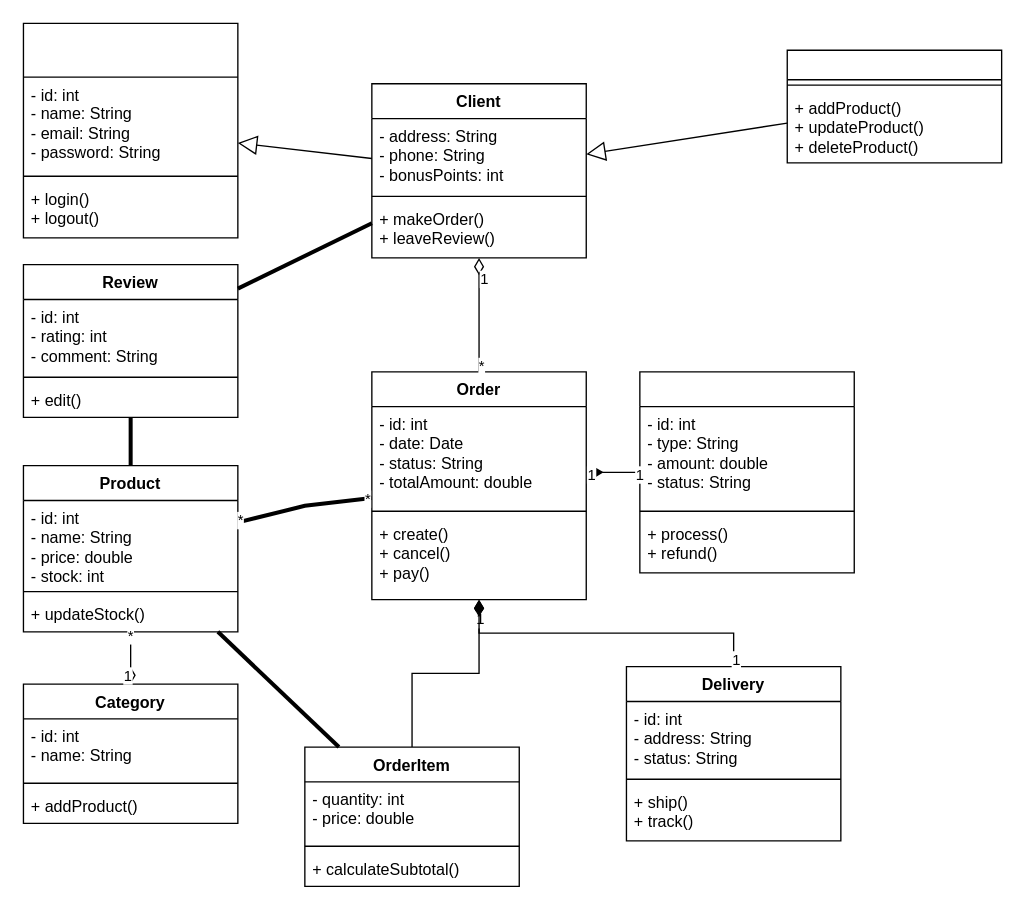
The diagram is 1025 pixels wide and 914 high, and some of its shapes have lost their labels. Each missing label, with the box of its shape:
<<abstract>> User: (22, 22, 238, 238)
Administrator: (786, 49, 1002, 163)
Payment: (639, 371, 854, 573)
